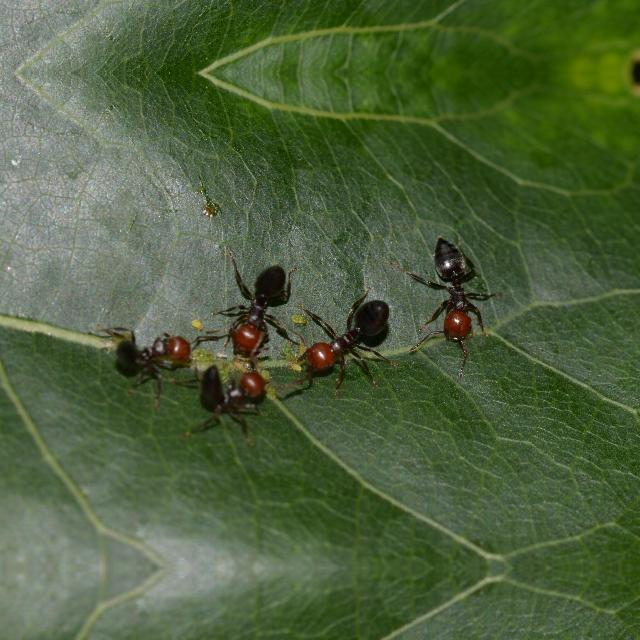Crematogaster: (298, 287, 398, 385), (92, 304, 190, 382), (424, 230, 486, 352), (224, 248, 290, 354), (189, 351, 267, 421)
